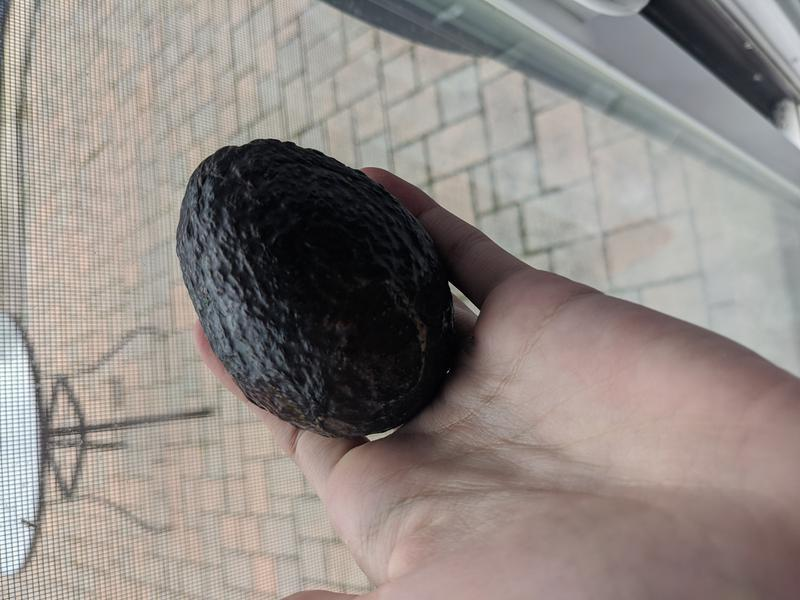avocado: (175, 138, 455, 437)
